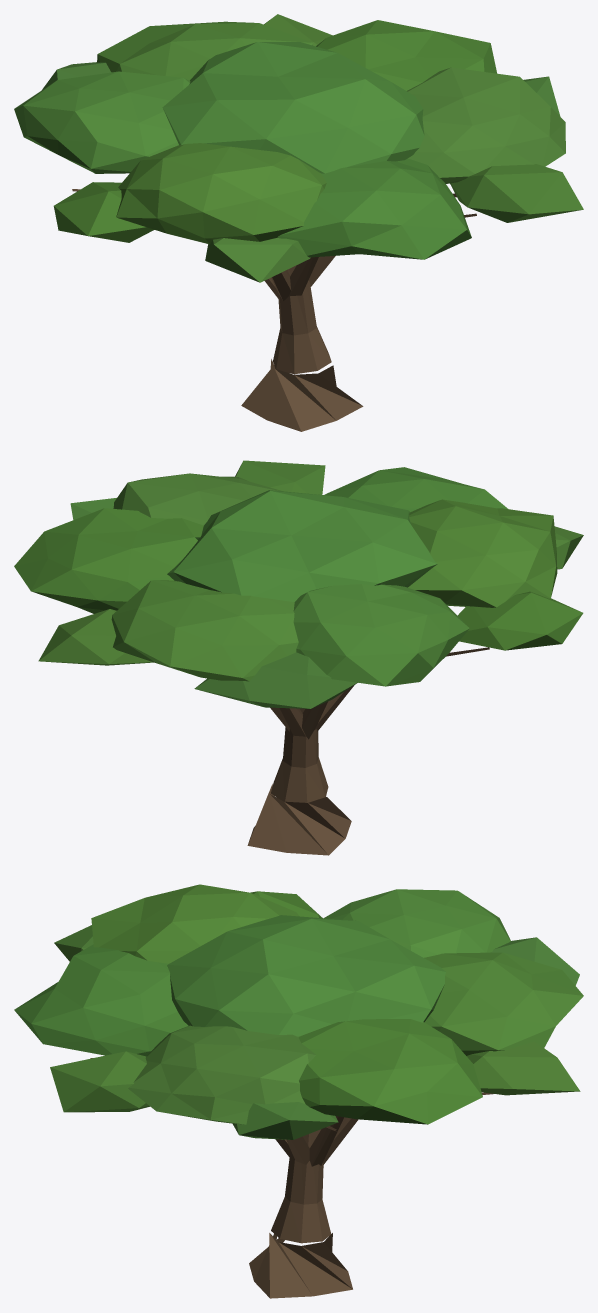
File: umbrella_b.glb
3 views of the same model, one above another, from view 1: azimuth 30°, elevation 25°; view 2: azimuth 150°, elevation 25°; view 3: azimuth 270°, elevation 25° (orthographic). The views are drawn at different scales.
Visible parts, largest first — view 1: umbrella; view 2: umbrella; view 3: umbrella.
Boxes of the visible parts, bbox=[...] form: umbrella: bbox=[14, 14, 583, 431]; umbrella: bbox=[14, 460, 583, 855]; umbrella: bbox=[14, 884, 583, 1298].
Size of the model in its own units: 16.88 by 10.63 by 16.9.
